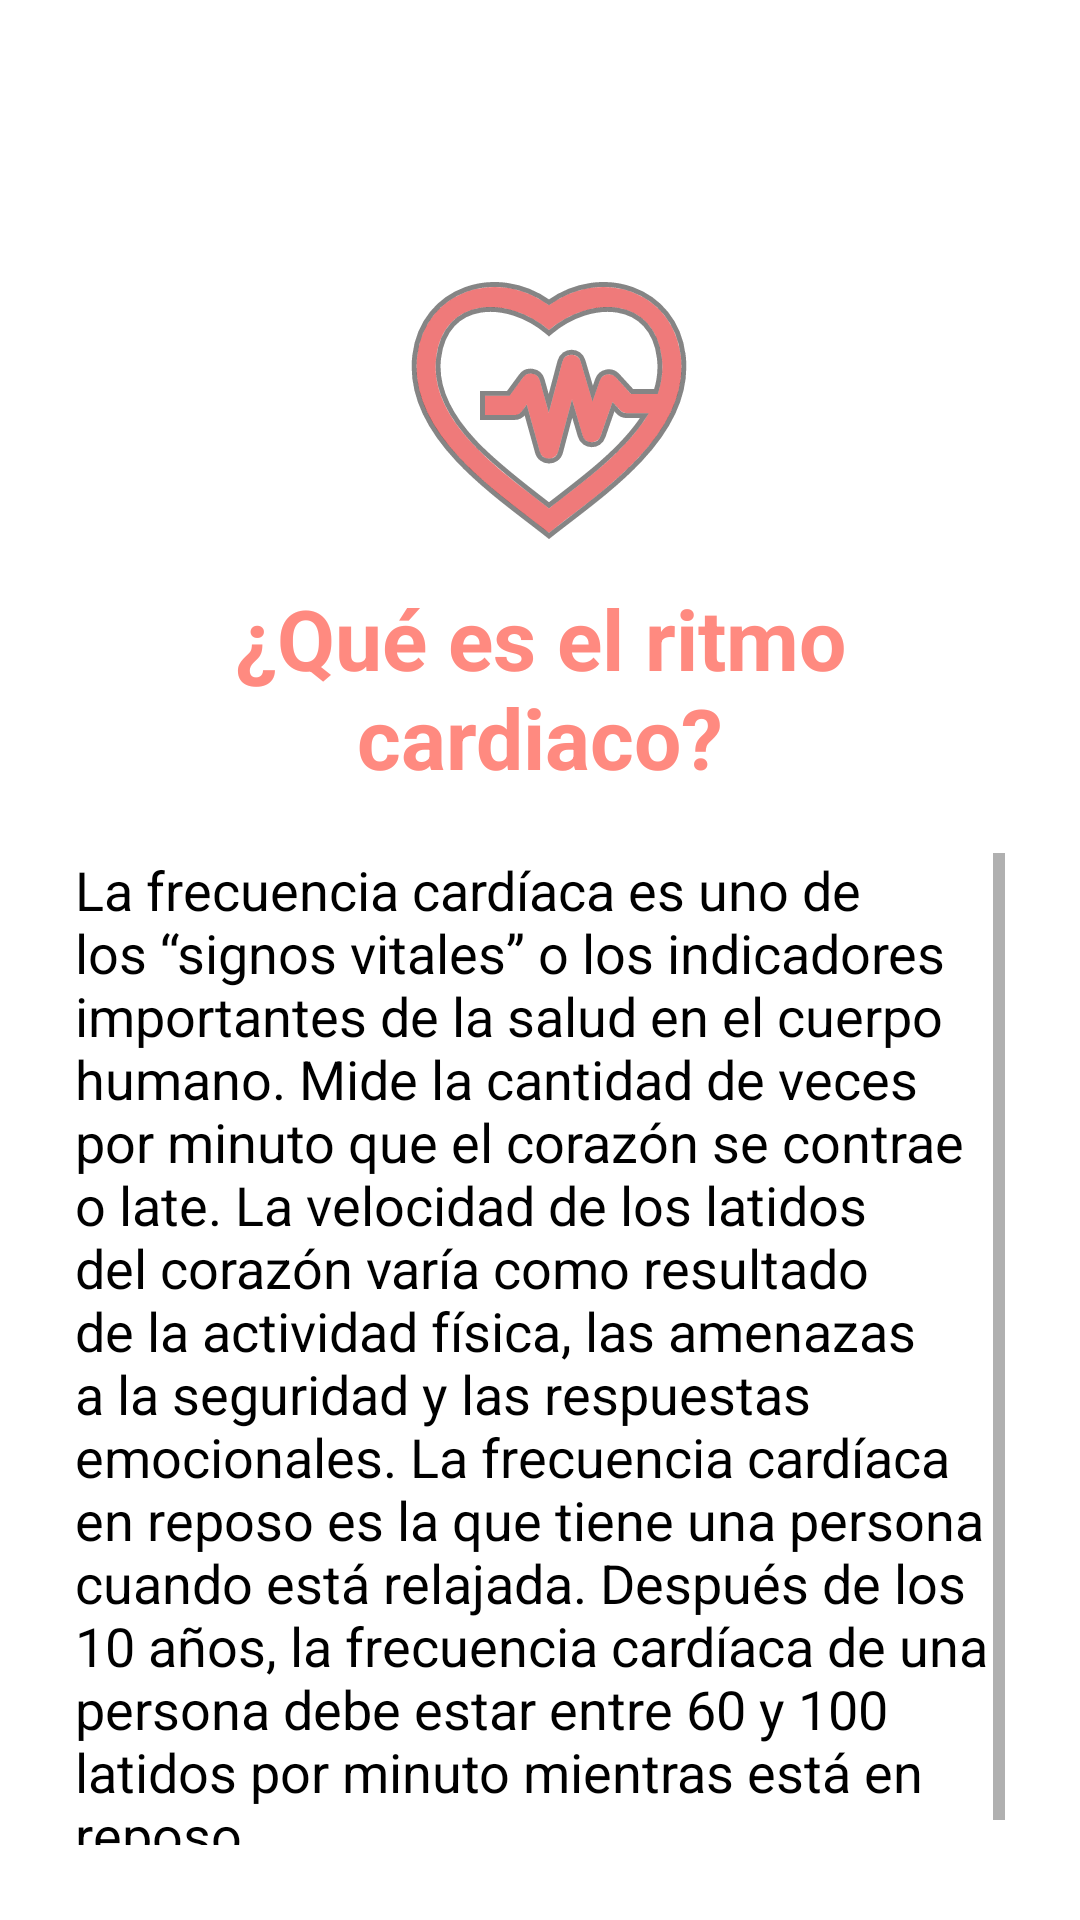

Named icons in this screenshot (1080 × 1920) and their bounding boxes, detection(x1, y1, x2, y2):
corazon: detection(411, 282, 687, 539)
